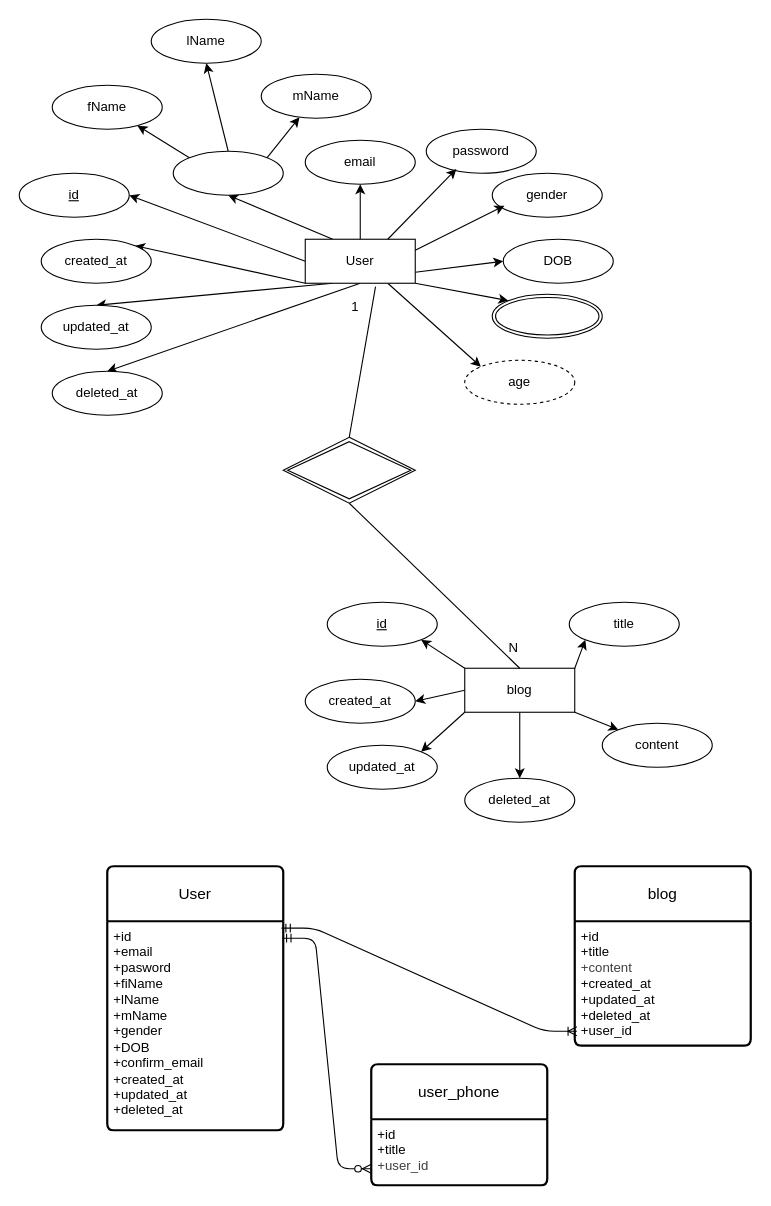
Some shapes in this 771 by 1206 pixel diagram are drawn without their labels. Each missing label, with the centre of its shape:
"create" belongs at point (348, 469).
"name" belongs at point (227, 172).
"phone" belongs at point (546, 315).
